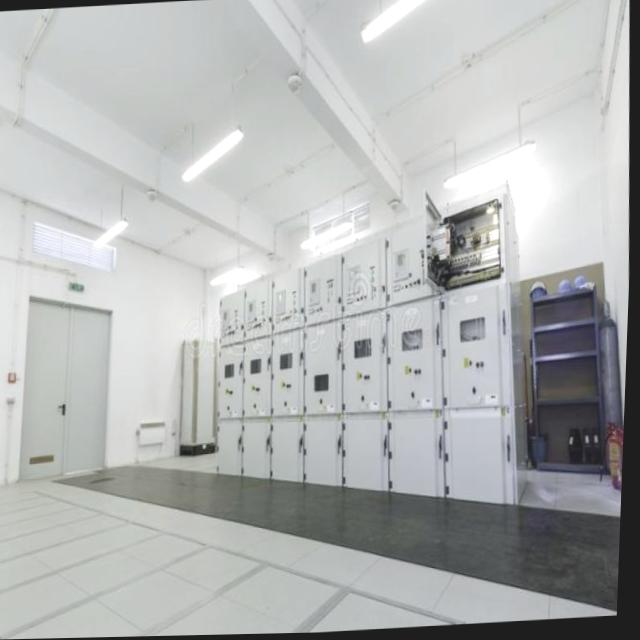FireExtinguisher: (601, 419, 627, 493), (617, 431, 627, 508)
